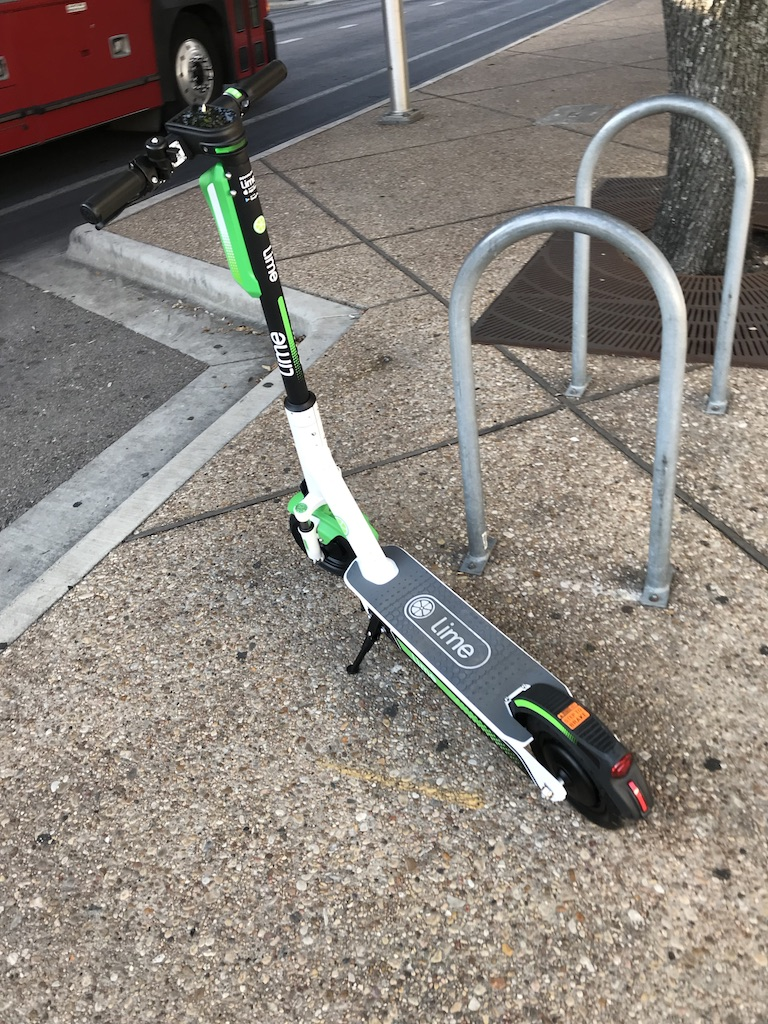scooter: (78, 61, 654, 830)
